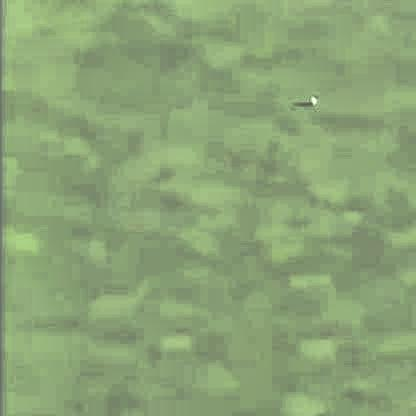golfball: (307, 93, 318, 104)
